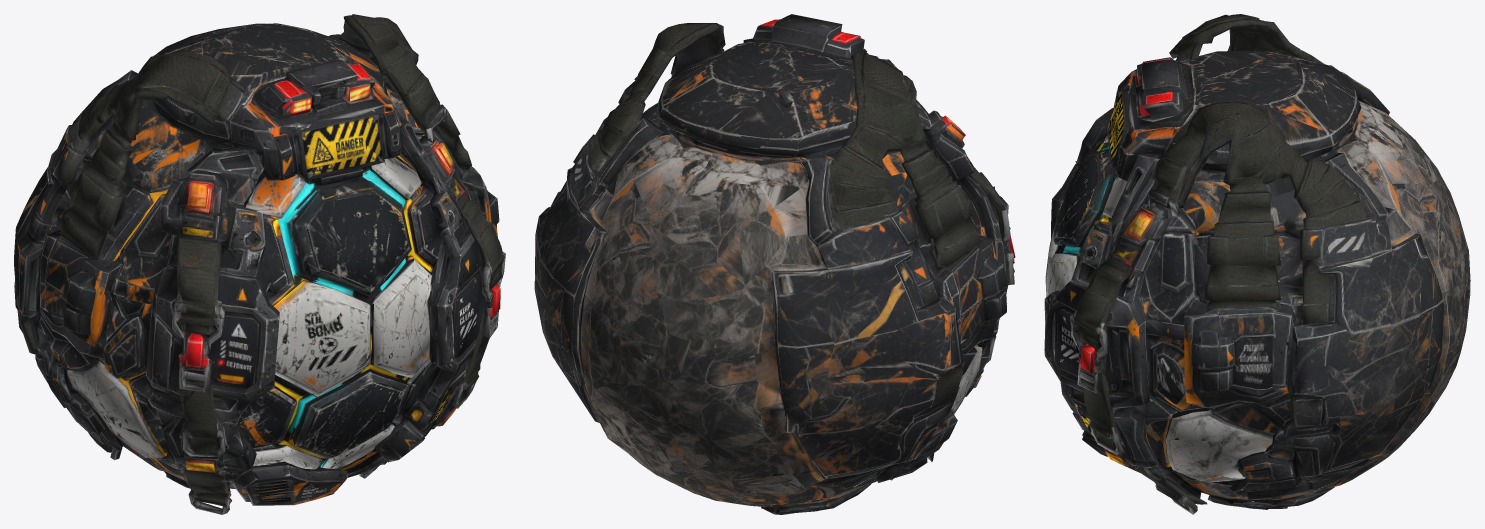
The model's file is MinaBigBomb.glb.
The picture shows the model from 3 angles, left to right: view 1: azimuth 30°, elevation 25°; view 2: azimuth 150°, elevation 25°; view 3: azimuth 270°, elevation 25°; orthographic projection. The views are drawn at different scales.
Visible parts, largest first — view 1: Mesh_0; view 2: Mesh_0; view 3: Mesh_0.
Part boxes in pixels (box(x1,y1,x2,y2)): Mesh_0: box(14, 14, 505, 514); Mesh_0: box(534, 14, 1015, 514); Mesh_0: box(1044, 14, 1470, 514).
Bounding box in the file's own units: 1.88 × 1.89 × 1.69.
1 material, 1 textured.
